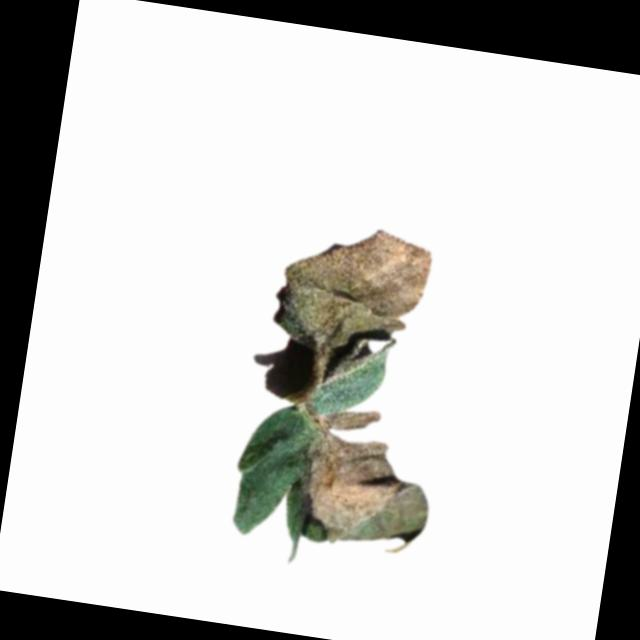Late_blight: (281, 399, 442, 557), (269, 213, 435, 361)
